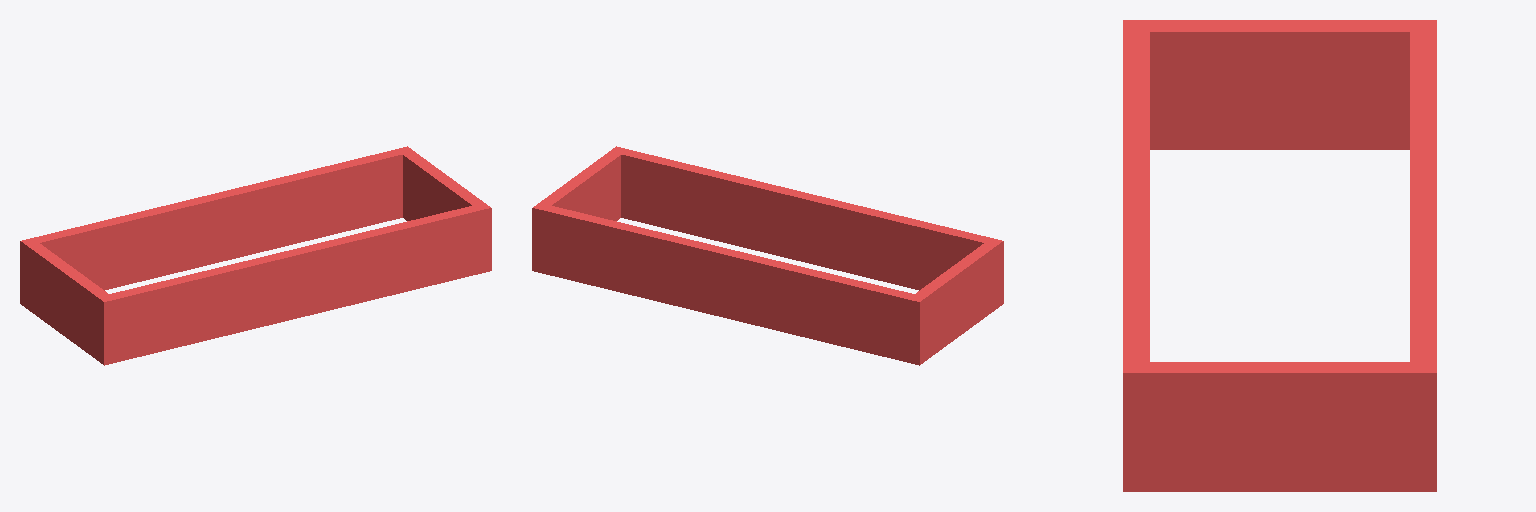
The robot description file, URDF, robot "room.urdf":
<?xml version="1.0" ?>
<robot name="room.urdf">
  <link concave="yes" name="baseLink">
    <inertial>
      <origin rpy="0 0 0" xyz="0.0 0.0 0.0"/>
       <mass value=".0"/>
       <inertia ixx="0" ixy="0" ixz="0" iyy="0" iyz="0" izz="0"/>
    </inertial>

    <visual>
      <origin rpy="1.57075 0 0" xyz="0 0 0"/>
      <geometry>
        <mesh filename="room.obj" scale="1 1 1"/>
      </geometry>
       <material name="red">
        <color rgba="1 0.4 0.4 1"/>
      </material>
    </visual>

    <collision concave="yes">
      <origin rpy="1.57075 0 0" xyz="0 0 0"/>
      <geometry>
	 	    <mesh filename="room.obj" scale="1 1 1"/>
      </geometry>
    </collision>
  </link>
</robot>

--- Render facts (derived) ---
The picture shows the robot from 3 angles, left to right: view 1: azimuth 30°, elevation 25°; view 2: azimuth 150°, elevation 25°; view 3: azimuth 270°, elevation 25°; orthographic projection.
Model room.urdf with 1 links and 0 joints (none), rooted at baseLink, posed all joints at 0.
Visible links, largest first — view 1: baseLink; view 2: baseLink; view 3: baseLink.
Boxes of the visible links, x1,y1,x2,y2 form: baseLink: (20,146,491,365); baseLink: (532,146,1003,365); baseLink: (1123,20,1436,491).
Size in the robot's own frame: 6.4 by 2.4 by 1 metres.
1 mesh visuals loaded from 1 distinct referenced files (1 OBJ).